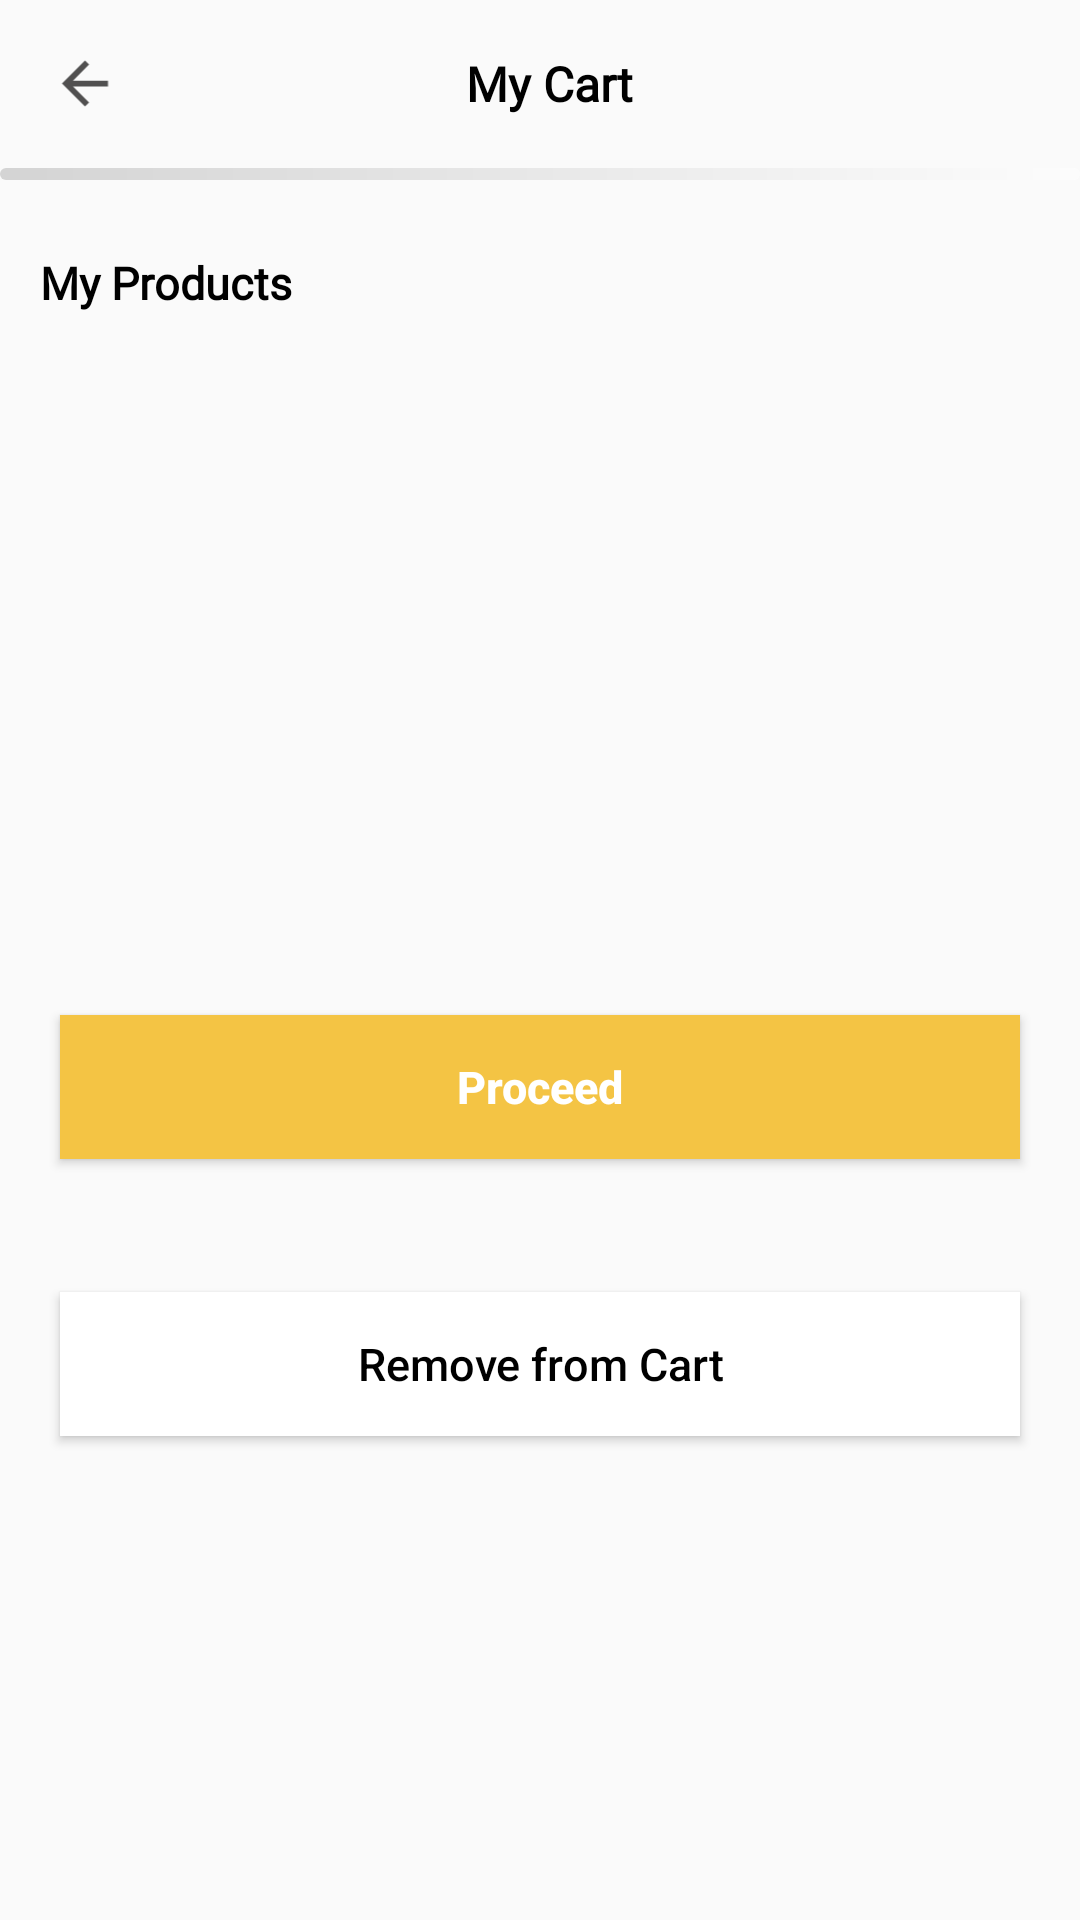

Point at icon controls on the screen. Image size 1080×1920, points as point (x, y).
back arrow: point (85, 83)
